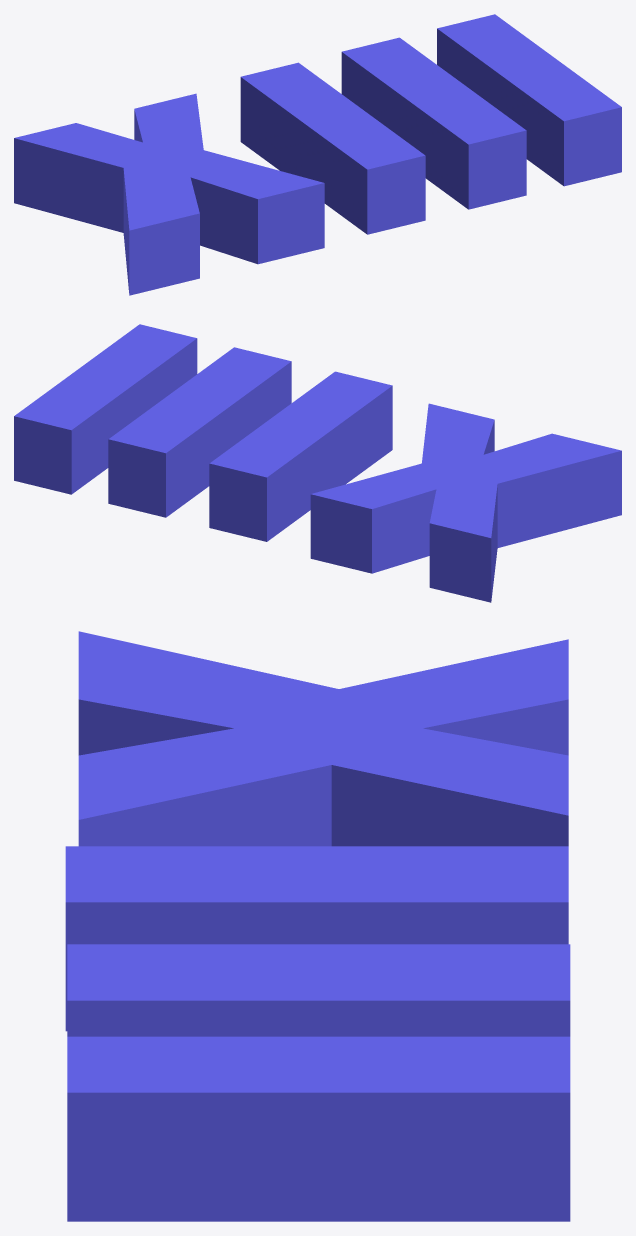
The picture shows the model from 3 angles, top to bottom: view 1: azimuth 30°, elevation 25°; view 2: azimuth 150°, elevation 25°; view 3: azimuth 270°, elevation 25°; orthographic projection. The views are drawn at different scales.
Parts seen in each view (by area): view 1: X1, I_2_1, I_2_2, I_2_3; view 2: X1, I_2_1, I_2_2, I_2_3; view 3: I_2_3, X1, I_2_1, I_2_2.
Boxes of the visible parts, x1,y1,x2,y2 form: X1: (14, 93, 324, 295); I_2_1: (240, 62, 425, 234); I_2_2: (341, 37, 526, 209); I_2_3: (437, 14, 621, 186); X1: (310, 403, 621, 602); I_2_1: (209, 371, 392, 541); I_2_2: (108, 347, 291, 517); I_2_3: (14, 324, 197, 494); I_2_3: (67, 1036, 570, 1221); X1: (78, 631, 568, 846); I_2_1: (65, 846, 568, 1031); I_2_2: (67, 944, 570, 1036).
Bounding box in the file's own units: 1.18 × 0.1639 × 0.5318.
